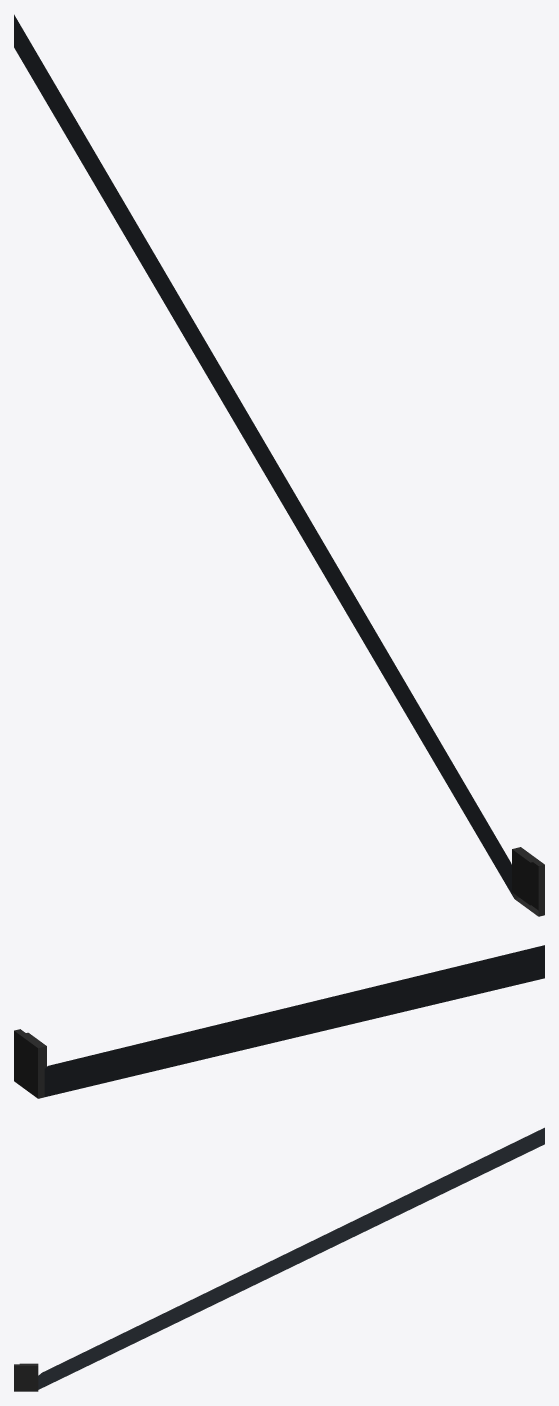
File: SM_Bld_House_Roof_Angled_Gutter_03.fbx
3 renders of one model, top to bottom at view 1: azimuth 30°, elevation 25°; view 2: azimuth 210°, elevation 25°; view 3: azimuth 270°, elevation 25°, orthographic. The views are drawn at different scales.
Visible parts, largest first — view 1: SM_Bld_House_Roof_Angled_Gutter_03; view 2: SM_Bld_House_Roof_Angled_Gutter_03; view 3: SM_Bld_House_Roof_Angled_Gutter_03.
Boxes of the visible parts, bbox=[...] form: SM_Bld_House_Roof_Angled_Gutter_03: bbox=[14, 14, 544, 916]; SM_Bld_House_Roof_Angled_Gutter_03: bbox=[14, 945, 544, 1098]; SM_Bld_House_Roof_Angled_Gutter_03: bbox=[14, 1127, 544, 1391].
Size of the model in its own units: 3.07 by 173 by 317.
